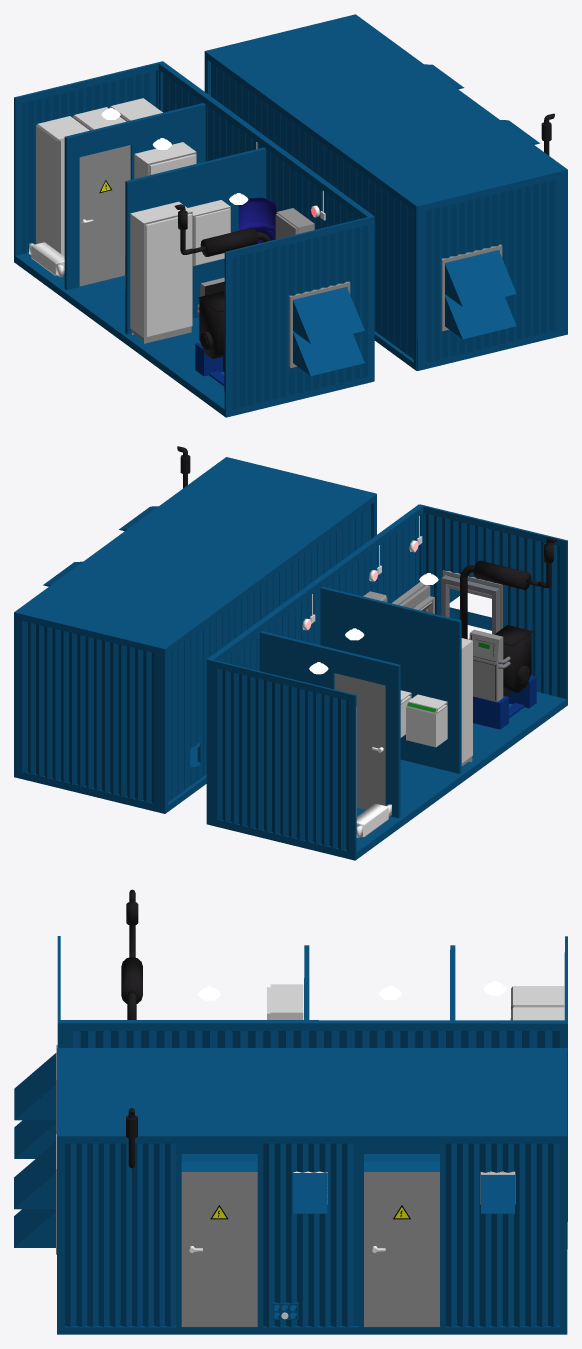
The picture shows the model from 3 angles, top to bottom: view 1: azimuth 30°, elevation 25°; view 2: azimuth 150°, elevation 25°; view 3: azimuth 270°, elevation 25°; orthographic projection. The views are drawn at different scales.
Visible parts, largest first — view 1: Object_16, top_26, Left wall_13, Object_10, Back wall_3, Object_4, Cube.002_15, Object_13, wall.001_7, Object_9, Object_14, Object_18 (+3 smaller); view 2: Object_16, top_26, right_17, Back wall_3, Object_4, Object_13, Object_10, Object_18, wall.001_7, Object_7, Object_14, Back wall.004_5 (+1 smaller); view 3: wall.001_7, top_26, door.002_6, Object_16, Cube.002_15, Object_10, Back wall_3, Object_13, object 39, object 40, Object_8.
Boxes of the visible parts, x1,y1,x2,y2 form: Object_16: (14, 61, 374, 417); top_26: (212, 16, 563, 203); Left wall_13: (417, 169, 565, 370); Object_10: (36, 98, 298, 337); Back wall_3: (204, 50, 421, 370); Object_4: (36, 106, 350, 368); Cube.002_15: (445, 250, 516, 339); Object_13: (174, 204, 270, 371); wall.001_7: (353, 14, 567, 334); Object_9: (238, 197, 277, 243); Object_14: (29, 142, 325, 277); Object_18: (195, 343, 224, 391); Object_16: (206, 504, 567, 860); top_26: (18, 458, 369, 646); right_17: (16, 612, 160, 812); Back wall_3: (159, 492, 376, 813); Object_4: (334, 570, 503, 809); Object_13: (460, 537, 556, 703); Object_10: (356, 596, 472, 816); Object_18: (473, 675, 536, 729); wall.001_7: (14, 457, 228, 777); Object_7: (441, 575, 510, 668); Object_14: (302, 516, 422, 837); Back wall.004_5: (261, 568, 285, 619); wall.001_7: (57, 1135, 567, 1334); top_26: (60, 1051, 564, 1134); door.002_6: (181, 1172, 439, 1326); Object_16: (14, 936, 567, 1221); Cube.002_15: (14, 1142, 55, 1247); Object_10: (267, 984, 564, 1020); Back wall_3: (58, 1048, 567, 1248); Object_13: (121, 889, 142, 1019); object 39: (293, 1173, 327, 1213); object 40: (481, 1175, 514, 1213); Object_8: (198, 981, 506, 1000).
Bounding box in the file's own units: 17.08 × 8.2 × 17.66.
